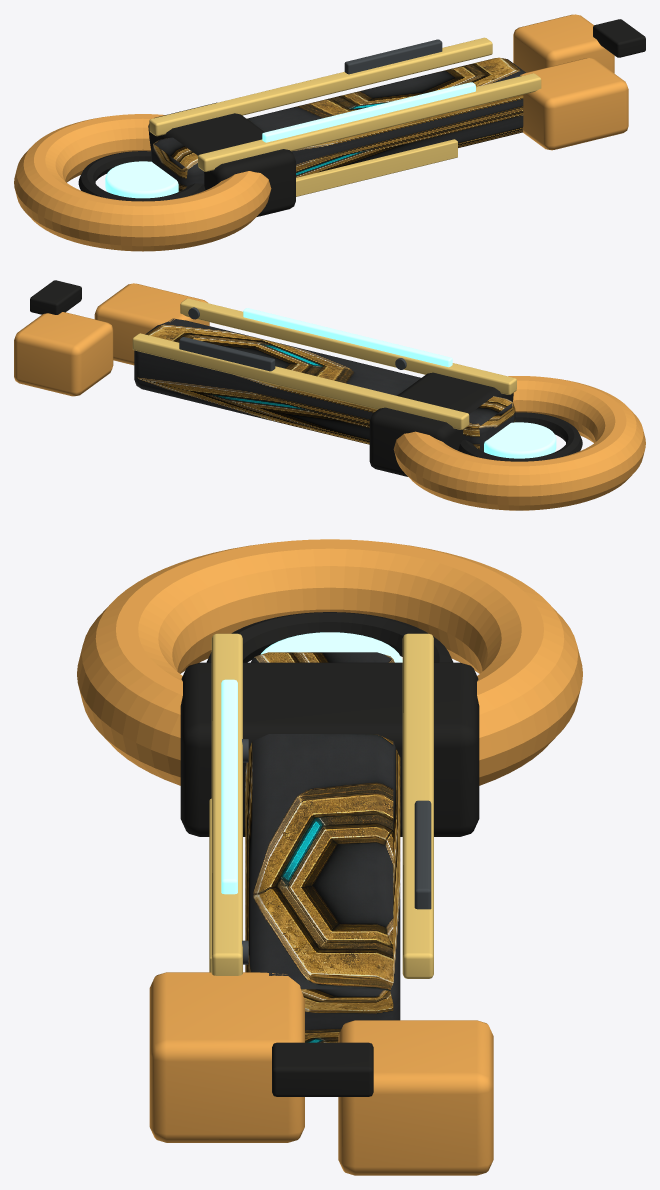
The model's file is hp_pickup_large_yellow_key.glb.
3 views of the same model, one above another, from view 1: azimuth 30°, elevation 25°; view 2: azimuth 150°, elevation 25°; view 3: azimuth 270°, elevation 25° (orthographic). The views are drawn at different scales.
Parts seen in each view (by area): view 1: pickup_large_yellow_key_round_bow_gold_shell, pickup_large_yellow_key_flat_key_shaft_image2_face, pickup_large_yellow_key_lower_tooth_gold_big, pickup_large_yellow_key_shaft_gold_edge_top, pickup_large_yellow_key_black_grip_block, pickup_large_yellow_key_shaft_gold_edge_bottom, pickup_large_yellow_key_upper_tooth_gold_big, pickup_large_yellow_key_key_color_side_art_color_block, pickup_large_yellow_key_cyan_light_strip, pickup_large_yellow_key_bow_inner_cyan_lens, pickup_large_yellow_key_inner_reader_black_ring, pickup_large_yellow_key_terminal_tooth_black_cut (+1 smaller); view 2: pickup_large_yellow_key_round_bow_gold_shell, pickup_large_yellow_key_flat_key_shaft_image2_face, pickup_large_yellow_key_upper_tooth_gold_big, pickup_large_yellow_key_black_grip_block, pickup_large_yellow_key_shaft_gold_edge_top, pickup_large_yellow_key_shaft_gold_edge_bottom, pickup_large_yellow_key_lower_tooth_gold_big, pickup_large_yellow_key_cyan_light_strip, pickup_large_yellow_key_bow_inner_cyan_lens, pickup_large_yellow_key_inner_reader_black_ring, pickup_large_yellow_key_serial_plate, pickup_large_yellow_key_terminal_tooth_black_cut; view 3: pickup_large_yellow_key_round_bow_gold_shell, pickup_large_yellow_key_flat_key_shaft_image2_face, pickup_large_yellow_key_black_grip_block, pickup_large_yellow_key_lower_tooth_gold_big, pickup_large_yellow_key_upper_tooth_gold_big, pickup_large_yellow_key_shaft_gold_edge_top, pickup_large_yellow_key_shaft_gold_edge_bottom, pickup_large_yellow_key_terminal_tooth_black_cut, pickup_large_yellow_key_inner_reader_black_ring, pickup_large_yellow_key_cyan_light_strip, pickup_large_yellow_key_bow_inner_cyan_lens, pickup_large_yellow_key_serial_plate.
Boxes of the visible parts, <box> form: pickup_large_yellow_key_round_bow_gold_shell: <box>14,114,271,251</box>; pickup_large_yellow_key_flat_key_shaft_image2_face: <box>151,57,525,191</box>; pickup_large_yellow_key_lower_tooth_gold_big: <box>520,58,628,150</box>; pickup_large_yellow_key_shaft_gold_edge_top: <box>149,37,492,136</box>; pickup_large_yellow_key_black_grip_block: <box>148,102,295,216</box>; pickup_large_yellow_key_shaft_gold_edge_bottom: <box>198,73,541,171</box>; pickup_large_yellow_key_upper_tooth_gold_big: <box>513,14,614,73</box>; pickup_large_yellow_key_key_color_side_art_color_block: <box>296,139,457,196</box>; pickup_large_yellow_key_cyan_light_strip: <box>262,82,475,142</box>; pickup_large_yellow_key_bow_inner_cyan_lens: <box>105,161,178,198</box>; pickup_large_yellow_key_inner_reader_black_ring: <box>78,151,205,201</box>; pickup_large_yellow_key_terminal_tooth_black_cut: <box>593,19,645,57</box>; pickup_large_yellow_key_round_bow_gold_shell: <box>393,376,645,510</box>; pickup_large_yellow_key_flat_key_shaft_image2_face: <box>134,318,515,451</box>; pickup_large_yellow_key_upper_tooth_gold_big: <box>14,312,113,396</box>; pickup_large_yellow_key_black_grip_block: <box>369,372,513,476</box>; pickup_large_yellow_key_shaft_gold_edge_top: <box>132,333,469,429</box>; pickup_large_yellow_key_shaft_gold_edge_bottom: <box>180,298,516,394</box>; pickup_large_yellow_key_lower_tooth_gold_big: <box>94,283,209,365</box>; pickup_large_yellow_key_cyan_light_strip: <box>243,308,452,367</box>; pickup_large_yellow_key_bow_inner_cyan_lens: <box>484,422,556,458</box>; pickup_large_yellow_key_inner_reader_black_ring: <box>458,412,582,461</box>; pickup_large_yellow_key_serial_plate: <box>179,337,275,371</box>; pickup_large_yellow_key_terminal_tooth_black_cut: <box>30,280,81,314</box>; pickup_large_yellow_key_round_bow_gold_shell: <box>77,539,582,785</box>; pickup_large_yellow_key_flat_key_shaft_image2_face: <box>245,652,400,1042</box>; pickup_large_yellow_key_black_grip_block: <box>180,662,479,836</box>; pickup_large_yellow_key_lower_tooth_gold_big: <box>149,972,304,1142</box>; pickup_large_yellow_key_upper_tooth_gold_big: <box>338,1020,493,1175</box>; pickup_large_yellow_key_shaft_gold_edge_top: <box>402,633,433,978</box>; pickup_large_yellow_key_shaft_gold_edge_bottom: <box>211,633,242,975</box>; pickup_large_yellow_key_terminal_tooth_black_cut: <box>272,1042,373,1096</box>; pickup_large_yellow_key_inner_reader_black_ring: <box>206,612,453,662</box>; pickup_large_yellow_key_cyan_light_strip: <box>221,679,237,894</box>; pickup_large_yellow_key_bow_inner_cyan_lens: <box>260,632,402,662</box>; pickup_large_yellow_key_serial_plate: <box>414,800,431,909</box>.
Size of the model in its own units: 1.14 by 0.1375 by 0.424.
6 materials, 1 textured.
